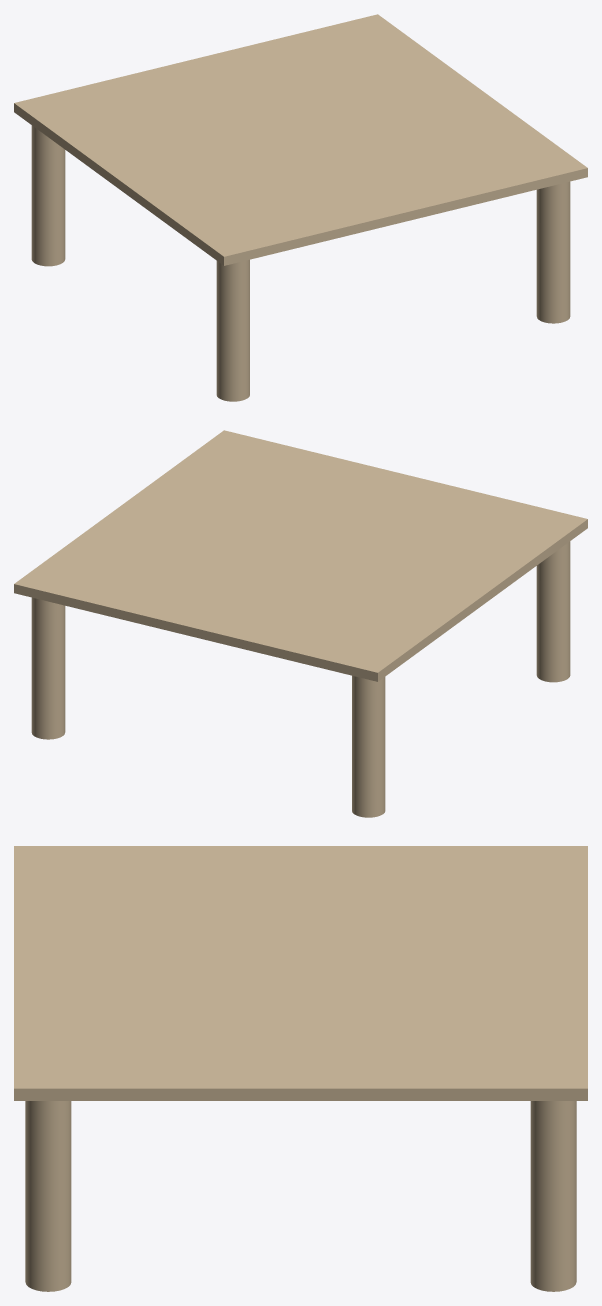
Rendered from newport-54440-g2-proxy.glb.
3 views of the same model, one above another, from view 1: azimuth 30°, elevation 25°; view 2: azimuth 150°, elevation 25°; view 3: azimuth 270°, elevation 25° (orthographic). The views are drawn at different scales.
Visible parts, largest first — view 1: proxy_body, leg (×3); view 2: proxy_body, leg (×3); view 3: proxy_body, leg (×2).
Part boxes in pixels (x1,y1,x2,y2): proxy_body: (14, 14, 587, 265); leg (×3): (31, 125, 570, 401); proxy_body: (14, 430, 587, 681); leg (×3): (31, 541, 570, 817); proxy_body: (14, 846, 587, 1100); leg (×2): (25, 1101, 576, 1291).
Bounding box in the file's own units: 1 × 0.4 × 1.
